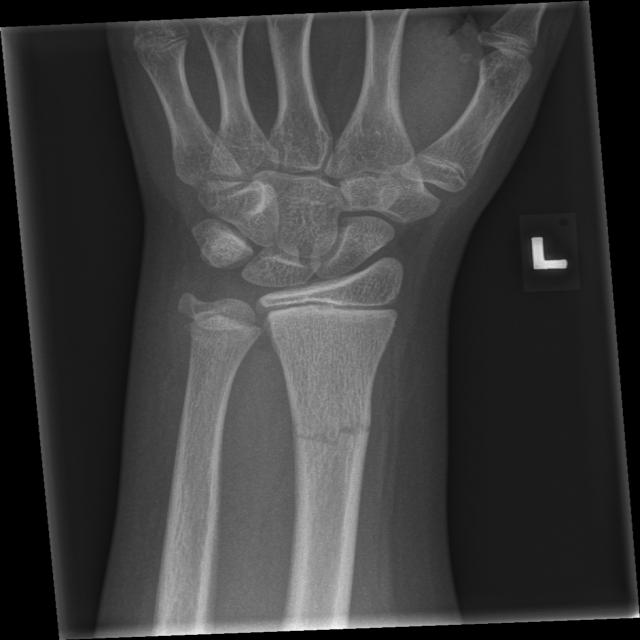radius fracture: (272, 387, 386, 493)
